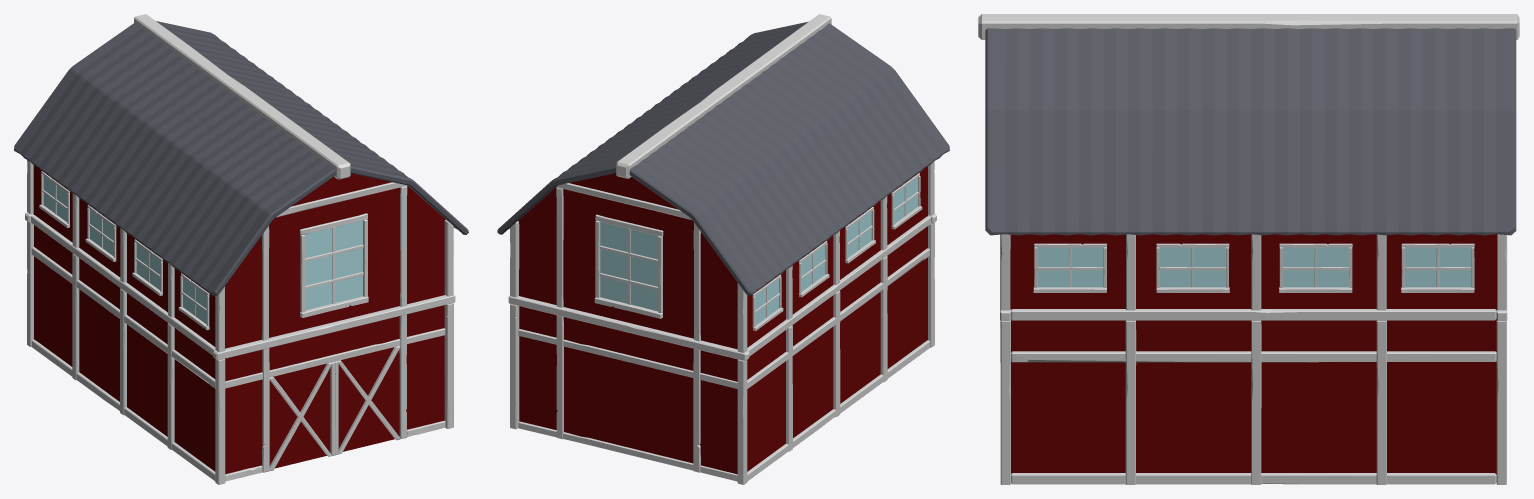
File: barn.glb
3 renders of one model, left to right at view 1: azimuth 30°, elevation 25°; view 2: azimuth 150°, elevation 25°; view 3: azimuth 270°, elevation 25°, orthographic. The views are drawn at different scales.
Parts seen in each view (by area): view 1: barn; view 2: barn; view 3: barn.
Boxes of the visible parts, box(x1,y1,x2,y2) form: barn: box(14, 14, 468, 484); barn: box(497, 14, 949, 484); barn: box(978, 14, 1519, 484).
Size of the model in its own units: 16.9 by 18.67 by 23.37.
